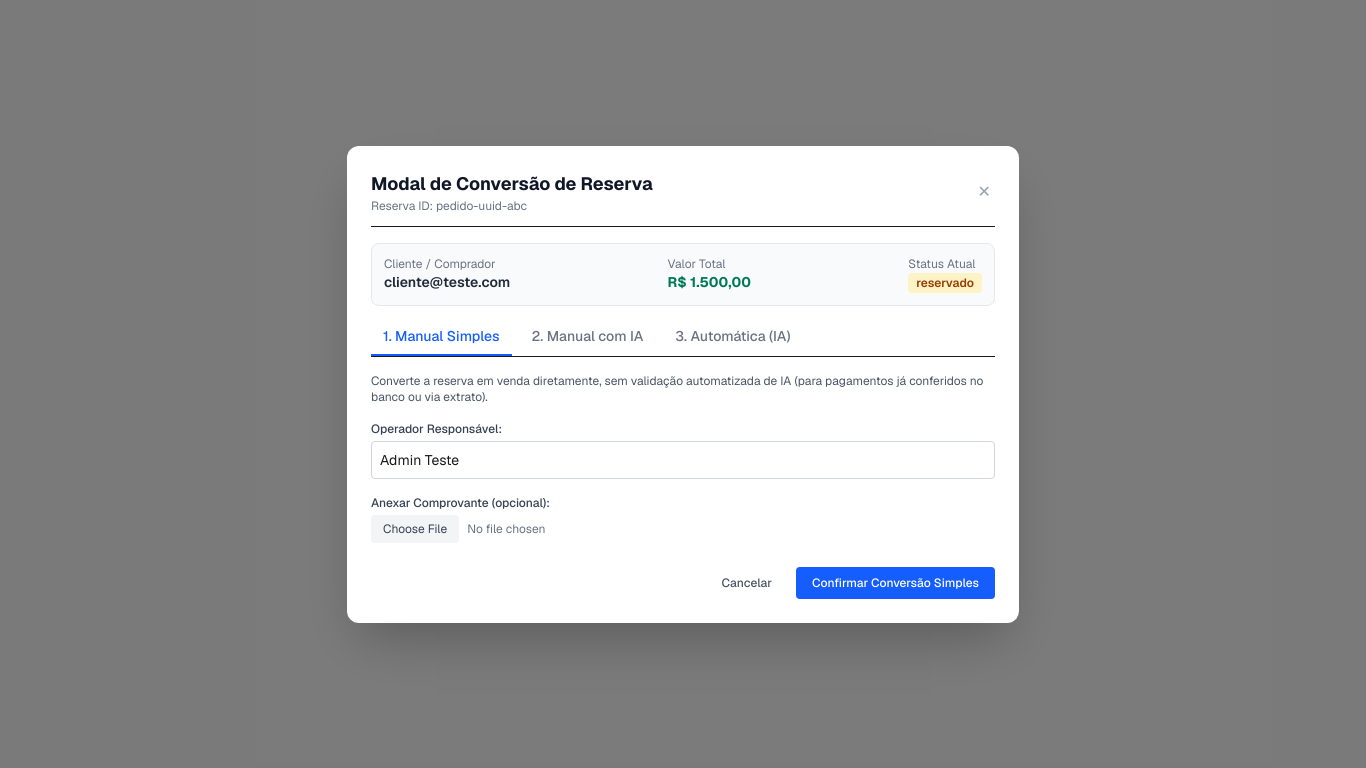
Scenario: ModalConversaoPedido › Modo 3 — Automática (IA) › botão converter fica desabilitado sem arquivo
Click the button "3. Automática (IA)" at (733, 340), box [663, 326, 803, 356]
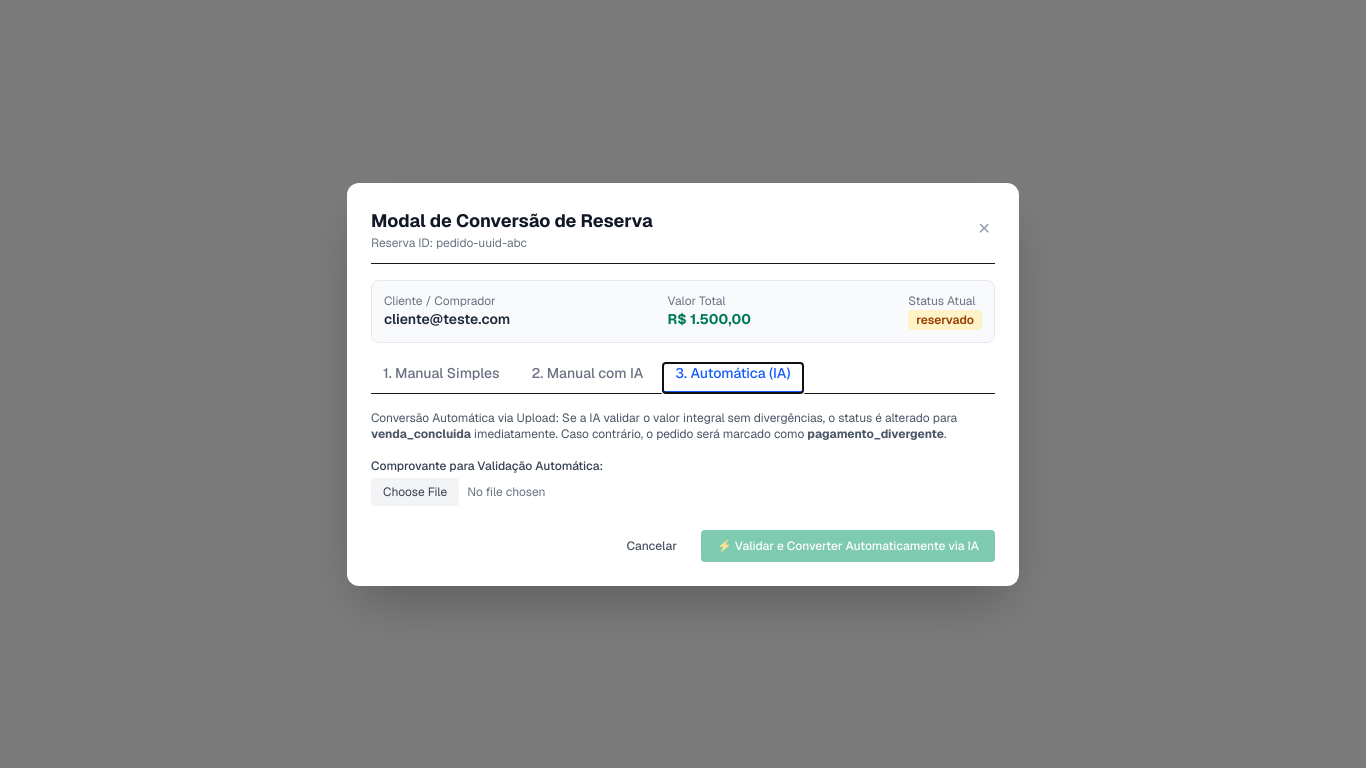
Check: the button "⚡ Validar e Converter Automaticamente via IA" is disabled, box [701, 530, 995, 562]
